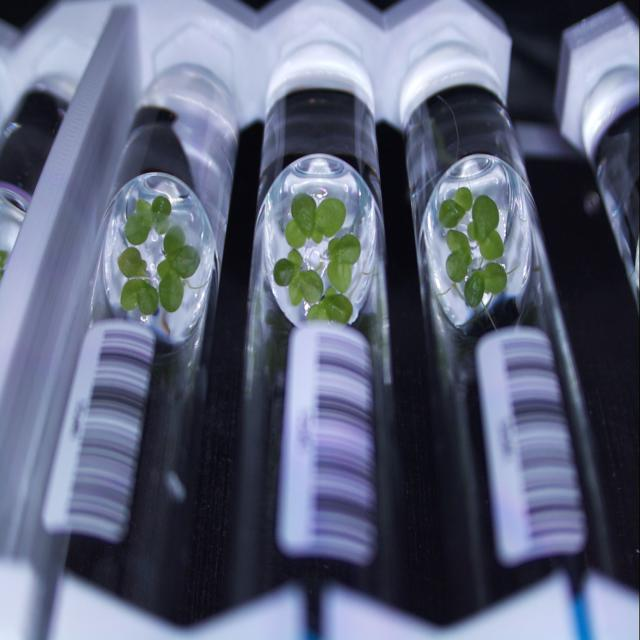Lemna-Gibba: (158, 225, 200, 312), (285, 193, 346, 247), (118, 247, 159, 315), (274, 250, 324, 305), (125, 195, 171, 245), (469, 195, 504, 260), (464, 262, 508, 309), (328, 233, 361, 294), (439, 187, 472, 228), (308, 294, 352, 324), (446, 230, 471, 282), (325, 287, 336, 297)
